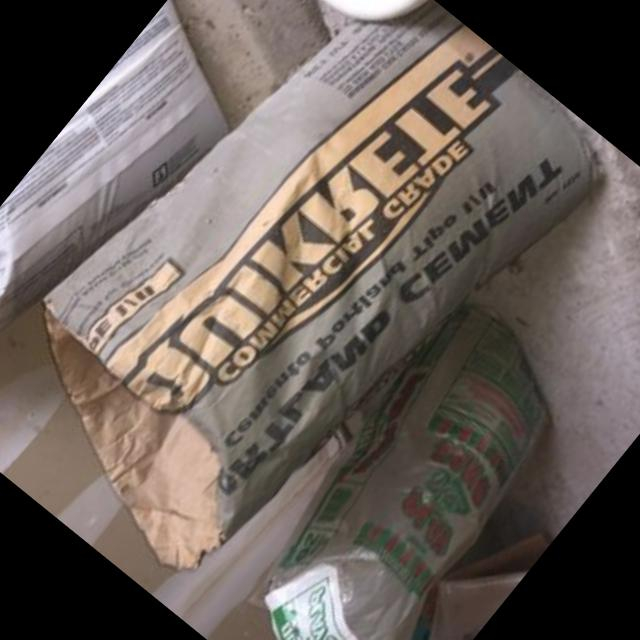KantongSemen: (0, 0, 624, 631), (191, 283, 618, 640)
